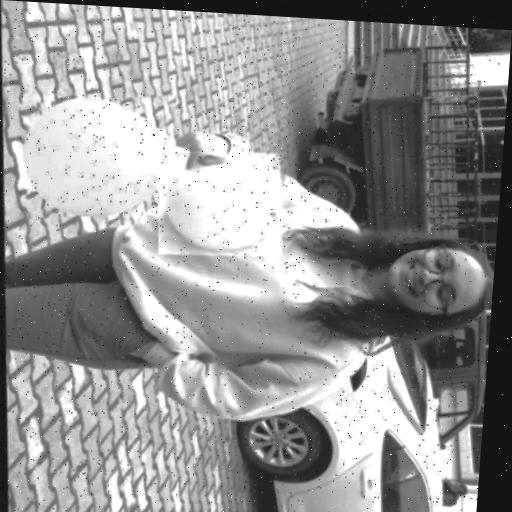balloon: (9, 90, 187, 225), (146, 148, 284, 262)
